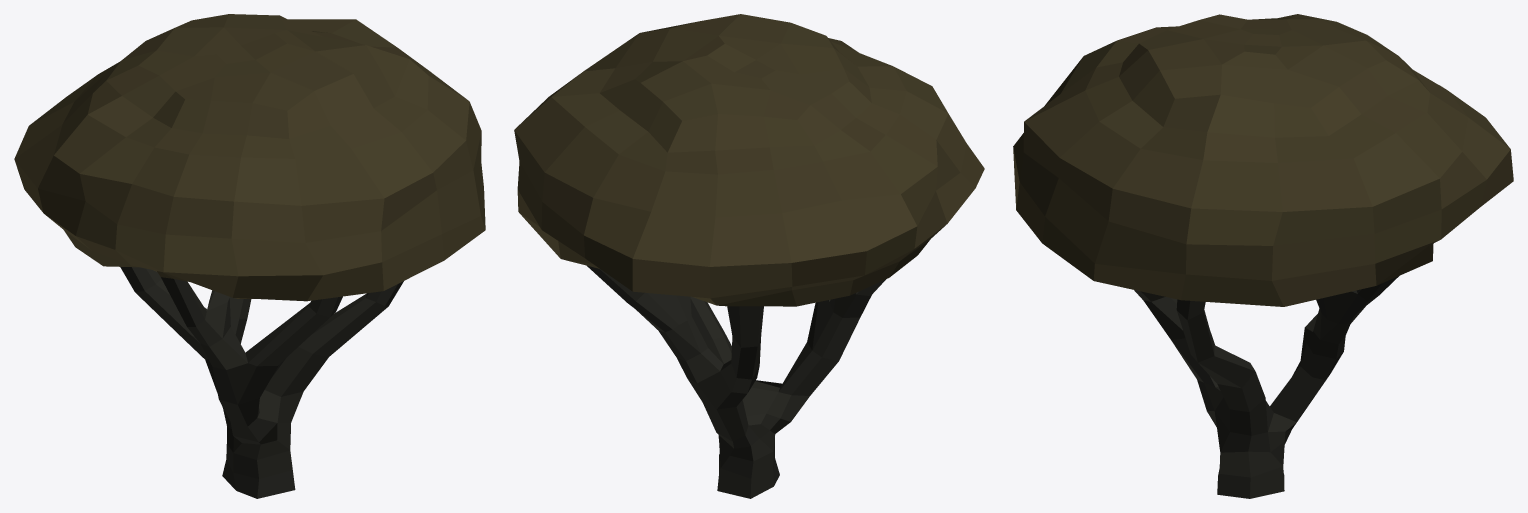
The model's file is KuaTree.fbx.
The picture shows the model from 3 angles, left to right: view 1: azimuth 30°, elevation 25°; view 2: azimuth 150°, elevation 25°; view 3: azimuth 270°, elevation 25°; orthographic projection. The views are drawn at different scales.
Parts seen in each view (by area): view 1: BSurfaceMesh.001; view 2: BSurfaceMesh.001; view 3: BSurfaceMesh.001.
Part boxes in pixels (x1,y1,x2,y2): BSurfaceMesh.001: (14, 14, 485, 498); BSurfaceMesh.001: (514, 14, 984, 498); BSurfaceMesh.001: (1013, 14, 1513, 498).
Size of the model in its own units: 127 by 132 by 135.
